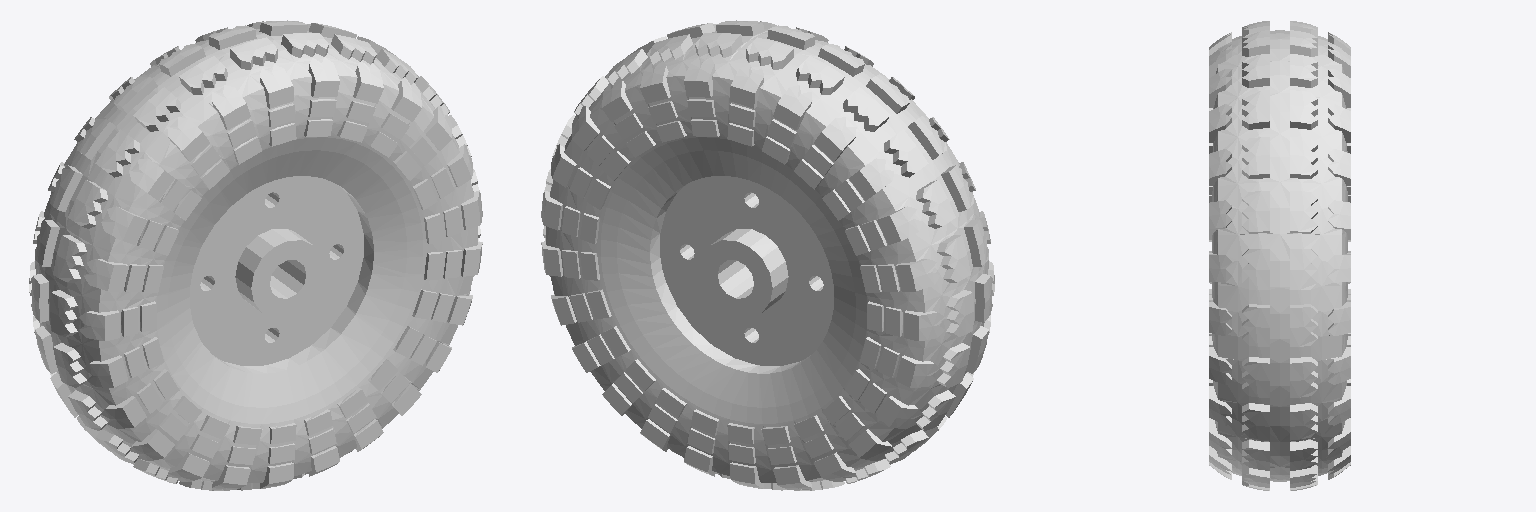
robot.urdf — Assem4:
<?xml version="1.0" encoding="utf-8"?>
<!-- This URDF was automatically created by SolidWorks to URDF Exporter! Originally created by [author] ([email redacted]) 
     Commit Version: 1.6.0-4-g7f85cfe  Build Version: 1.6.7995.38578
     For more information, please see http://wiki.ros.org/sw_urdf_exporter -->
<robot
  name="Assem4">
  <link
    name="base_link">
    <inertial>
      <origin
        xyz="-5.78147546747005E-17 0.06 -3.18747309255138E-17"
        rpy="0 0 0" />
      <mass
        value="21.6942477796077" />
      <inertia
        ixx="0.191279933343014"
        ixy="-2.98049293693505E-18"
        ixz="-7.44330202399716E-17"
        iyy="0.817129844527322"
        iyz="-3.1128339403067E-35"
        izz="0.677694623573289" />
    </inertial>
    <visual>
      <origin
        xyz="0 0 0"
        rpy="0 0 0" />
      <geometry>
        <mesh
          filename="package://Assem4/meshes/base_link.STL" />
      </geometry>
      <material
        name="">
        <color
          rgba="0.792156862745098 0.819607843137255 0.933333333333333 1" />
      </material>
    </visual>
    <collision>
      <origin
        xyz="0 0 0"
        rpy="0 0 0" />
      <geometry>
        <mesh
          filename="package://Assem4/meshes/base_link.STL" />
      </geometry>
    </collision>
  </link>
  <link
    name="front_left_wheel">
    <inertial>
      <origin
        xyz="0.200000000000051 0.194999999998911 0.0599999999999911"
        rpy="0 0 0" />
      <mass
        value="2.11669573162389" />
      <inertia
        ixx="0.00765610745147903"
        ixy="-2.59813947325536E-15"
        ixz="-1.65995523162035E-15"
        iyy="0.01404488198059"
        iyz="-5.62587526050974E-16"
        izz="0.00765610745117278" />
    </inertial>
    <visual>
      <origin
        xyz="0 0 0"
        rpy="0 0 0" />
      <geometry>
        <mesh
          filename="package://Assem4/meshes/front_left_wheel.STL" />
      </geometry>
      <material
        name="">
        <color
          rgba="0.898039215686275 0.898039215686275 0.898039215686275 1" />
      </material>
    </visual>
    <collision>
      <origin
        xyz="0 0 0"
        rpy="0 0 0" />
      <geometry>
        <mesh
          filename="package://Assem4/meshes/front_left_wheel.STL" />
      </geometry>
    </collision>
  </link>
  <joint
    name="front_left_joint"
    type="continuous">
    <origin
      xyz="0 0 0"
      rpy="0 0 0" />
    <parent
      link="base_link" />
    <child
      link="front_left_wheel" />
    <axis
      xyz="0 1 0" />
    <limit
      effort="1000"
      velocity="1000" />
    <dynamics
      damping="1"
      friction="1" />
  </joint>
  <link
    name="front_right_wheel">
    <inertial>
      <origin
        xyz="0.199999999999949 -0.194999999998911 0.0599999999999912"
        rpy="0 0 0" />
      <mass
        value="2.11669573162389" />
      <inertia
        ixx="0.00765610745147904"
        ixy="-2.59998411190257E-15"
        ixz="1.66280727604306E-15"
        iyy="0.0140448819805901"
        iyz="5.6347588157639E-16"
        izz="0.00765610745117279" />
    </inertial>
    <visual>
      <origin
        xyz="0 0 0"
        rpy="0 0 0" />
      <geometry>
        <mesh
          filename="package://Assem4/meshes/front_right_wheel.STL" />
      </geometry>
      <material
        name="">
        <color
          rgba="0.898039215686275 0.898039215686275 0.898039215686275 1" />
      </material>
    </visual>
    <collision>
      <origin
        xyz="0 0 0"
        rpy="0 0 0" />
      <geometry>
        <mesh
          filename="package://Assem4/meshes/front_right_wheel.STL" />
      </geometry>
    </collision>
  </link>
  <joint
    name="front_right_joint"
    type="continuous">
    <origin
      xyz="0 0 0"
      rpy="0 0 0" />
    <parent
      link="base_link" />
    <child
      link="front_right_wheel" />
    <axis
      xyz="0 -1 0" />
    <limit
      effort="1000"
      velocity="1000" />
    <dynamics
      damping="1"
      friction="1" />
  </joint>
  <link
    name="rear_left_wheel">
    <inertial>
      <origin
        xyz="-0.199999999999949 0.194999999998911 0.0599999999999912"
        rpy="0 0 0" />
      <mass
        value="2.11669573162389" />
      <inertia
        ixx="0.00765610745147904"
        ixy="-2.59815750706472E-15"
        ixz="-1.6500903650616E-15"
        iyy="0.0140448819805901"
        iyz="-5.62420403834275E-16"
        izz="0.00765610745117279" />
    </inertial>
    <visual>
      <origin
        xyz="0 0 0"
        rpy="0 0 0" />
      <geometry>
        <mesh
          filename="package://Assem4/meshes/rear_left_wheel.STL" />
      </geometry>
      <material
        name="">
        <color
          rgba="0.898039215686275 0.898039215686275 0.898039215686275 1" />
      </material>
    </visual>
    <collision>
      <origin
        xyz="0 0 0"
        rpy="0 0 0" />
      <geometry>
        <mesh
          filename="package://Assem4/meshes/rear_left_wheel.STL" />
      </geometry>
    </collision>
  </link>
  <joint
    name="rear_left_joint"
    type="continuous">
    <origin
      xyz="0 0 0"
      rpy="0 0 0" />
    <parent
      link="base_link" />
    <child
      link="rear_left_wheel" />
    <axis
      xyz="0 1 0" />
    <limit
      effort="1000"
      velocity="1000" />
    <dynamics
      damping="1"
      friction="1" />
  </joint>
  <link
    name="rear_right_wheel">
    <inertial>
      <origin
        xyz="-0.200000000000051 -0.194999999998911 0.059999999999991"
        rpy="0 0 0" />
      <mass
        value="2.11669573162389" />
      <inertia
        ixx="0.00765610745147902"
        ixy="-2.59861443297602E-15"
        ixz="1.66260669344537E-15"
        iyy="0.01404488198059"
        iyz="5.6123541463355E-16"
        izz="0.00765610745117278" />
    </inertial>
    <visual>
      <origin
        xyz="0 0 0"
        rpy="0 0 0" />
      <geometry>
        <mesh
          filename="package://Assem4/meshes/rear_right_wheel.STL" />
      </geometry>
      <material
        name="">
        <color
          rgba="0.898039215686275 0.898039215686275 0.898039215686275 1" />
      </material>
    </visual>
    <collision>
      <origin
        xyz="0 0 0"
        rpy="0 0 0" />
      <geometry>
        <mesh
          filename="package://Assem4/meshes/rear_right_wheel.STL" />
      </geometry>
    </collision>
  </link>
  <joint
    name="rear_right_joint"
    type="continuous">
    <origin
      xyz="0 0 0"
      rpy="0 0 0" />
    <parent
      link="base_link" />
    <child
      link="rear_right_wheel" />
    <axis
      xyz="0 -1 0" />
    <limit
      effort="1000"
      velocity="1000" />
    <dynamics
      damping="1"
      friction="1" />
  </joint>
</robot>

--- Facts derived from the render (not from the file) ---
The picture shows the robot from 3 angles, left to right: view 1: azimuth 30°, elevation 25°; view 2: azimuth 150°, elevation 25°; view 3: azimuth 270°, elevation 25°; orthographic projection.
Robot: Assem4 — 5 links, 4 joints (4 continuous); root link base_link; default pose: all joints at 0.
Visible links, largest first — view 1: front_left_wheel; view 2: front_left_wheel; view 3: front_left_wheel.
Link boxes in pixels (bbox=[...]): front_left_wheel: bbox=[29, 20, 482, 490]; front_left_wheel: bbox=[541, 20, 994, 490]; front_left_wheel: bbox=[1209, 21, 1350, 490].
Bounding box of the posed robot: 0.2294 × 0.069 × 0.2295 m (x, y, z).
1 mesh visuals loaded from 5 distinct referenced files (1 binary STL); not drawn: 4 (reference not matched to a file when rendering).